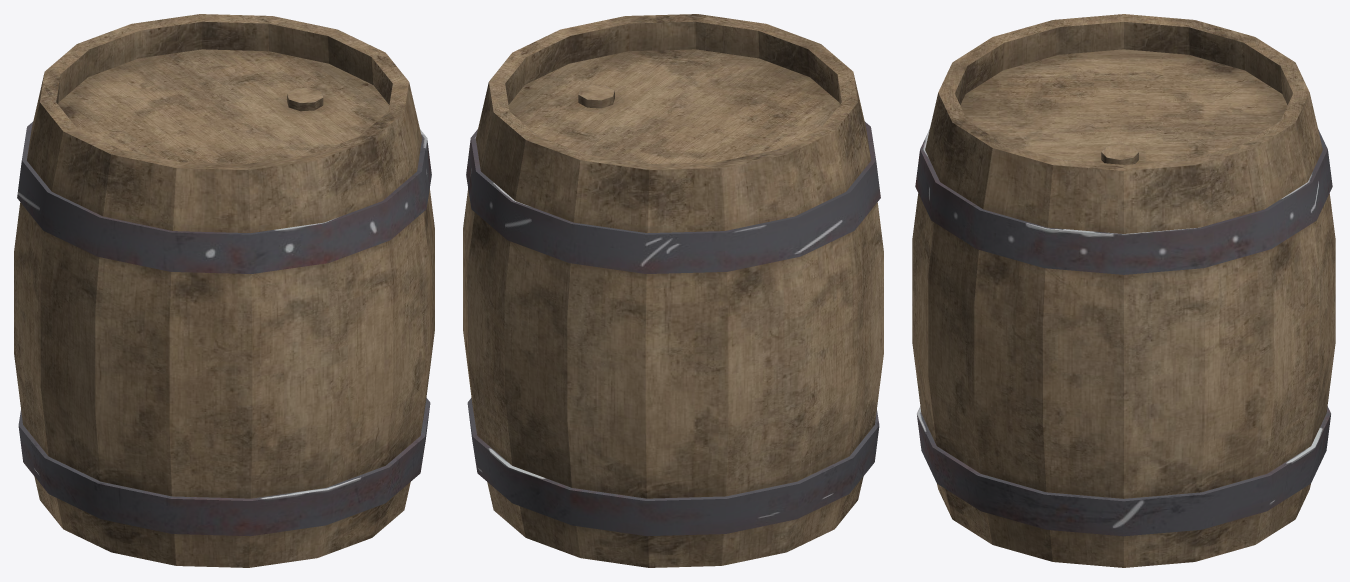
3 renders of one model, left to right at view 1: azimuth 30°, elevation 25°; view 2: azimuth 150°, elevation 25°; view 3: azimuth 270°, elevation 25°, orthographic.
Visible parts, largest first — view 1: barrel4; view 2: barrel4; view 3: barrel4.
Part boxes in pixels (box(x1,y1,x2,y2)): barrel4: box(14, 14, 434, 567); barrel4: box(463, 14, 883, 567); barrel4: box(912, 14, 1335, 567).
Bounding box in the file's own units: 1.93 × 2 × 1.93.
1 material, 1 textured.
